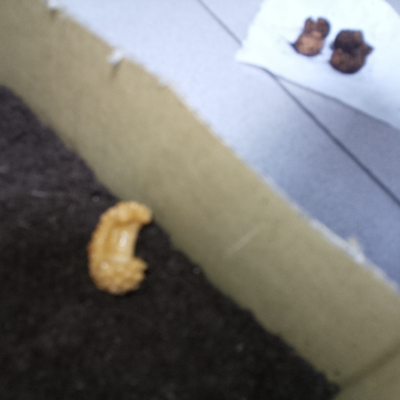eggs: (78, 194, 166, 301)
